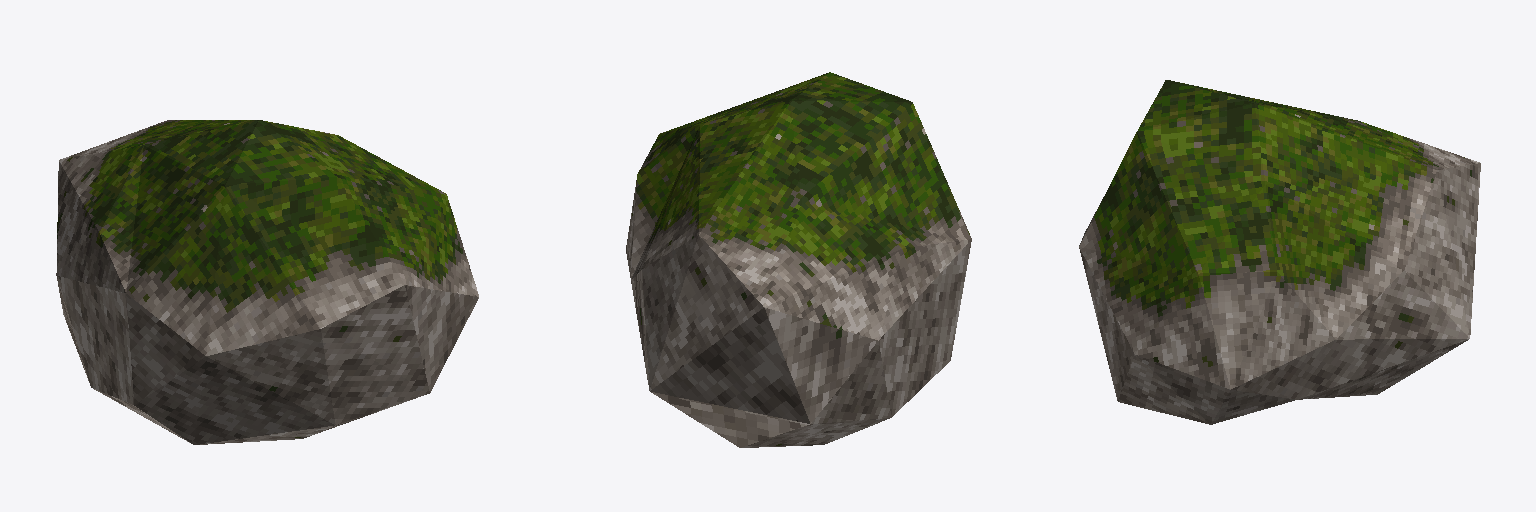
3 renders of one model, left to right at view 1: azimuth 30°, elevation 25°; view 2: azimuth 150°, elevation 25°; view 3: azimuth 270°, elevation 25°, orthographic.
Visible parts, largest first — view 1: lboulderswa_1; view 2: lboulderswa_1; view 3: lboulderswa_1.
Part boxes in pixels (x1,y1,x2,y2): lboulderswa_1: (56, 120, 478, 444); lboulderswa_1: (626, 72, 971, 447); lboulderswa_1: (1079, 80, 1480, 424).
Bounding box in the file's own units: 2.08 × 1.76 × 2.17.
Materials: 1 (1 with a texture image).